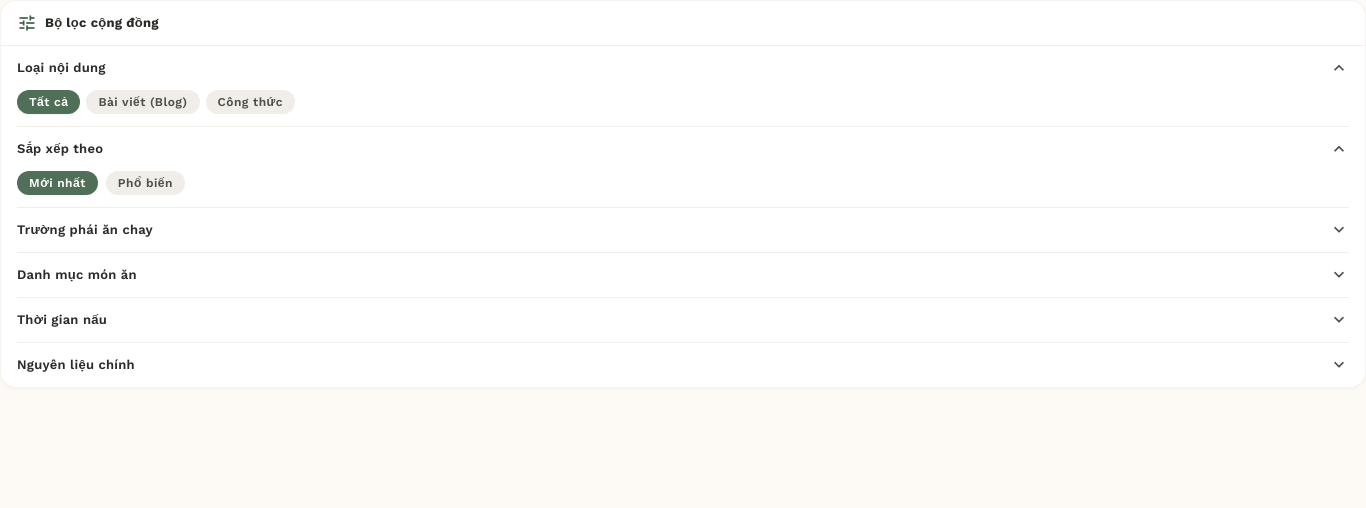
Test: FeedFilters — nhóm lọc thu gọn được, thân có thanh cuộn riêng › mở sẵn "Loại nội dung" và "Sắp xếp theo", các nhóm khác thu gọn
The image size is (1366, 508).
expect the text "Thuần chay (Vegan)" is not shown: met
Click the button "Trường phái ăn chay". click: click(85, 230)
box: [17,208,1349,252]
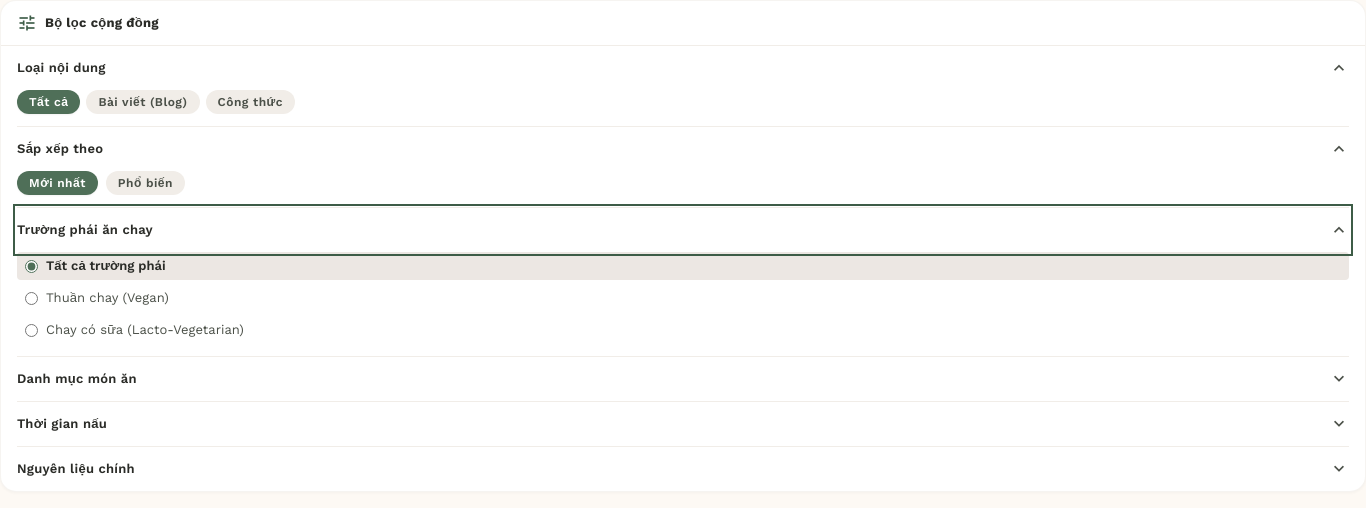
expect the button "Trường phái ăn chay" is expanded: met, box [17,208,1349,252]
expect the text "Thuần chay (Vegan)" is shown: met, box [46,288,169,308]
